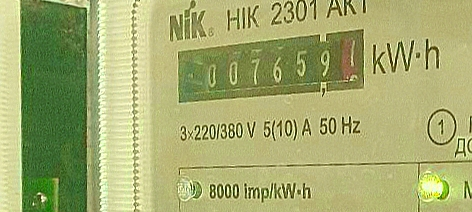0: (205, 59, 220, 87), (226, 58, 241, 86)
1: (345, 37, 359, 69)
5: (293, 46, 309, 79)
6: (271, 52, 285, 84)
7: (247, 53, 263, 86)
9: (317, 45, 334, 79)
screen: (161, 12, 387, 118)
